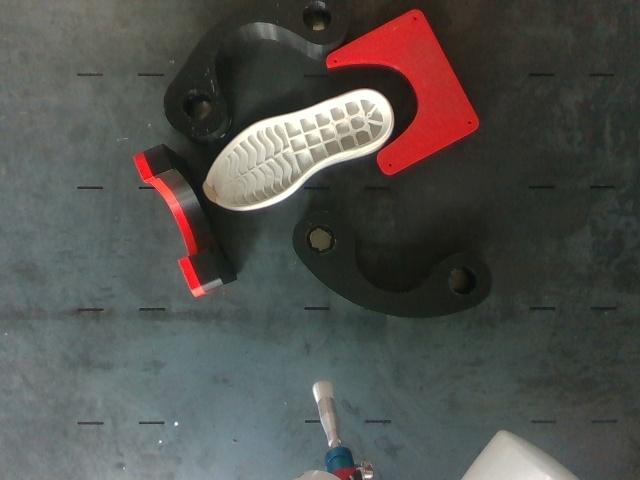shoes: (205, 89, 392, 209)
